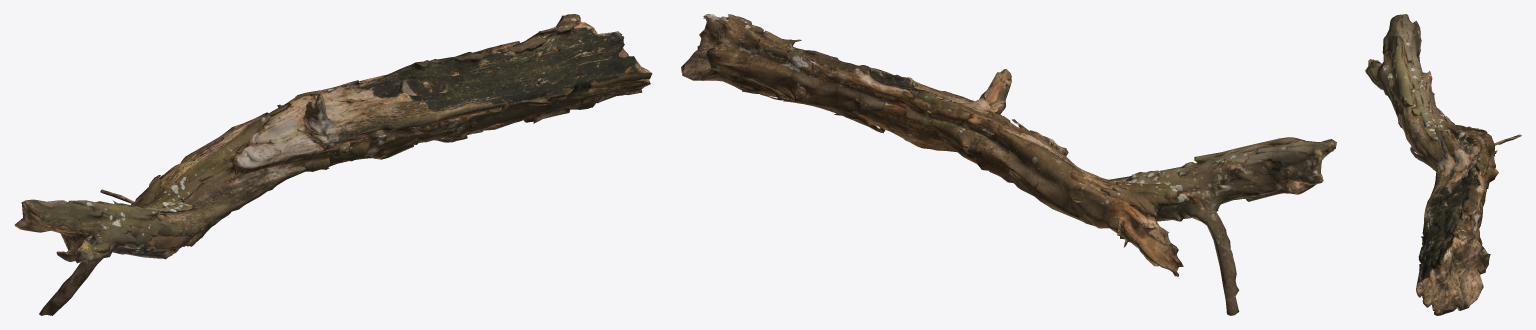
File: ph_dead_tree_trunk_02.glb
The picture shows the model from 3 angles, left to right: view 1: azimuth 30°, elevation 25°; view 2: azimuth 150°, elevation 25°; view 3: azimuth 270°, elevation 25°; orthographic projection. The views are drawn at different scales.
Size of the model in its own units: 4.05 by 1.05 by 1.05.
1 material, 1 textured.
